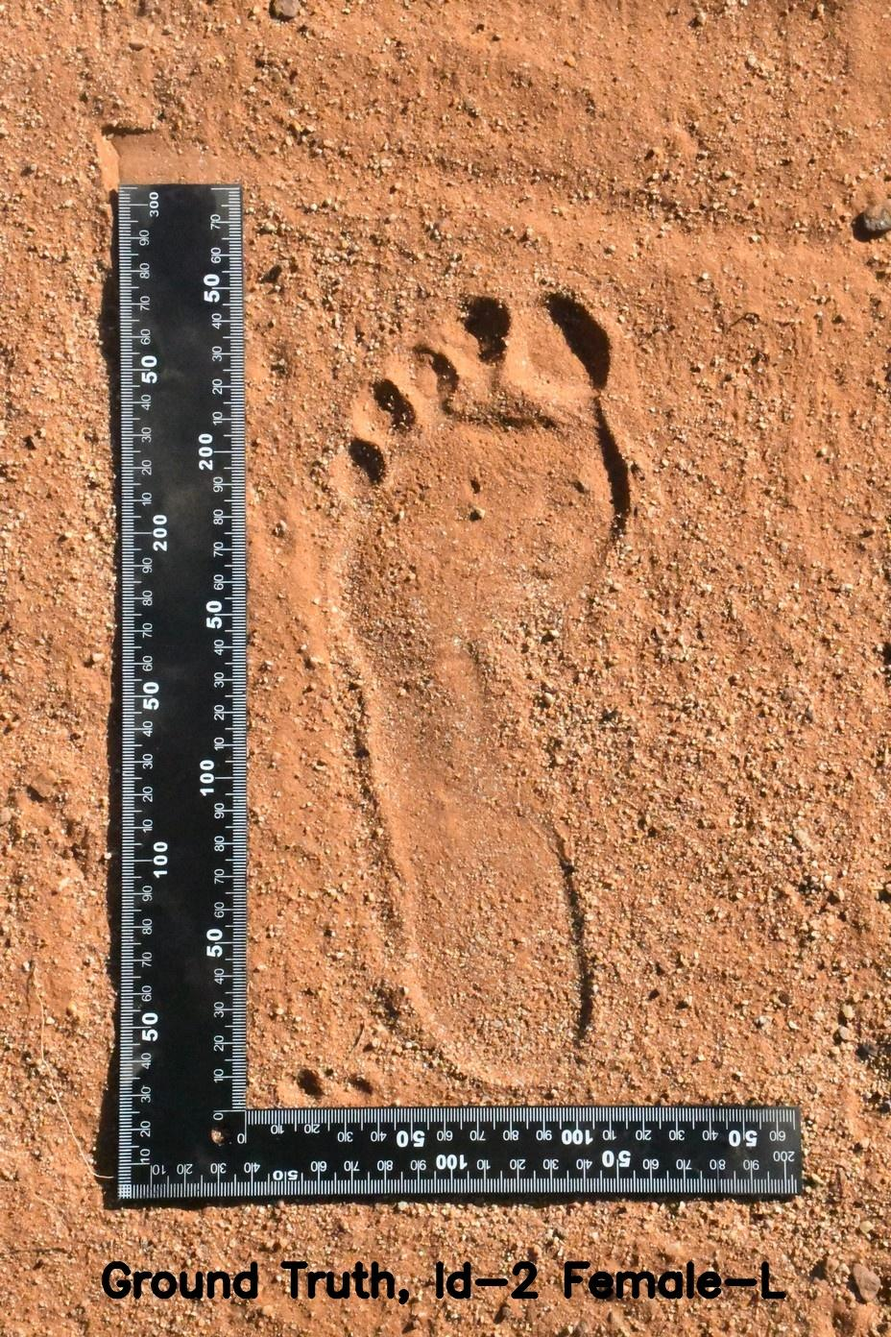human_footprint: (289, 251, 653, 1098)
